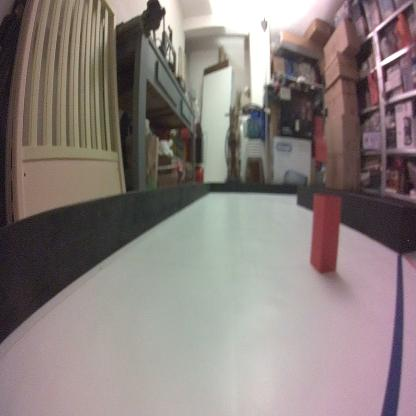red: (309, 192, 341, 274)
